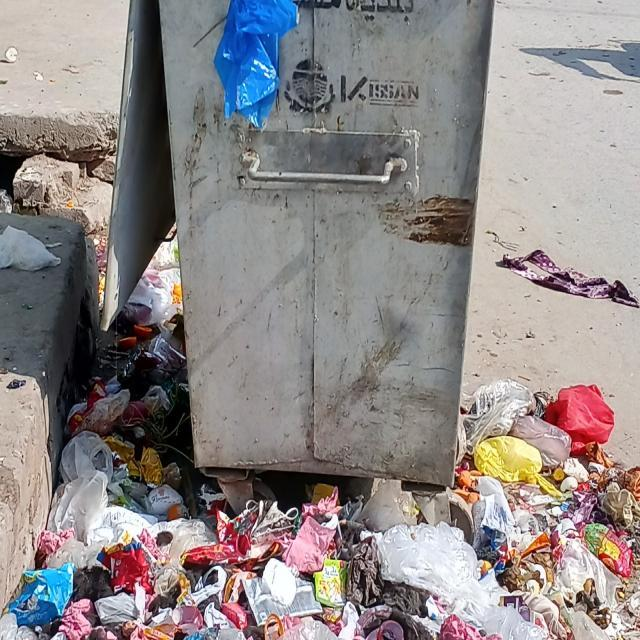garbage: (202, 476, 640, 640), (89, 210, 203, 640), (9, 393, 92, 634), (450, 386, 640, 476), (496, 235, 640, 322), (214, 3, 308, 126), (1, 217, 61, 292)
